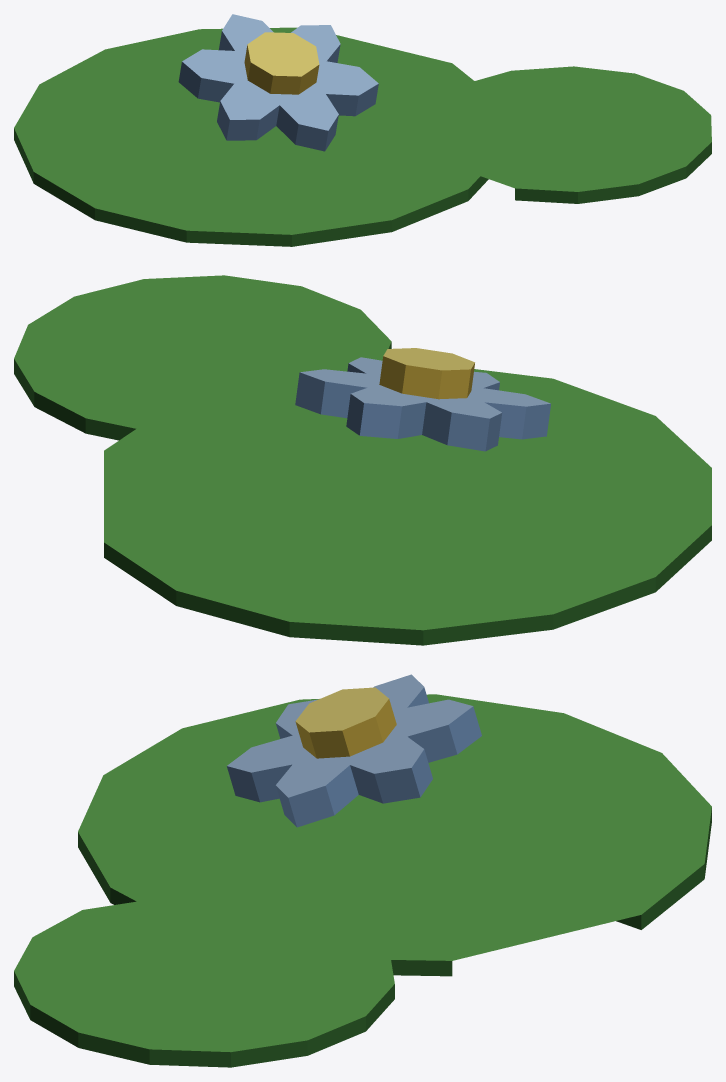
File: water_lily.fbx
The picture shows the model from 3 angles, top to bottom: view 1: azimuth 30°, elevation 25°; view 2: azimuth 150°, elevation 25°; view 3: azimuth 270°, elevation 25°; orthographic projection. The views are drawn at different scales.
Visible parts, largest first — view 1: water_lily; view 2: water_lily; view 3: water_lily.
Boxes of the visible parts, x1,y1,x2,y2 form: water_lily: (14, 14, 711, 246); water_lily: (14, 275, 711, 645); water_lily: (14, 674, 711, 1067).
Size of the model in its own units: 0.3981 by 0.0752 by 0.328.
